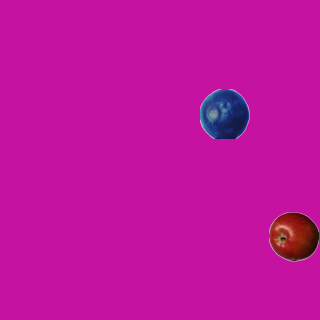Apple Braeburn: (268, 211, 318, 261)
Huckleberry: (199, 88, 249, 138)
